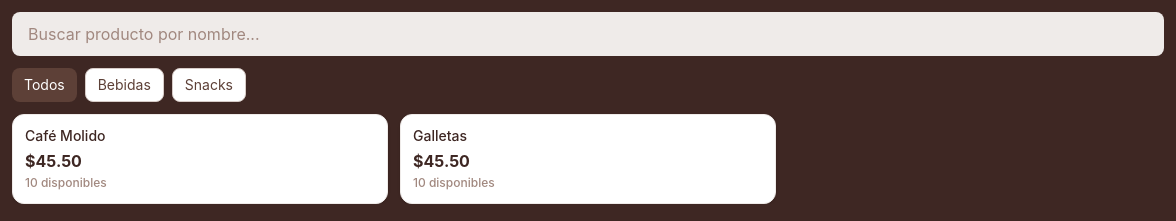
Test case: ProductSearch › filtra por categoría
This screenshot has width=1176, height=221.
Click the button "Snacks" at (209, 85), box [172,68,246,102]
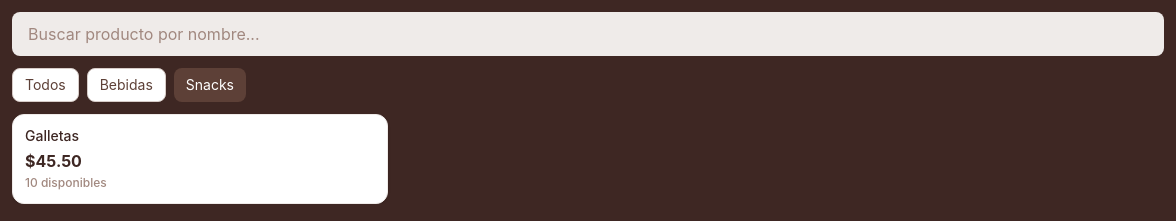
expect the text "Galletas" is shown: met, box [25,127,79,144]
expect the button "Café Molido" is gone: met
